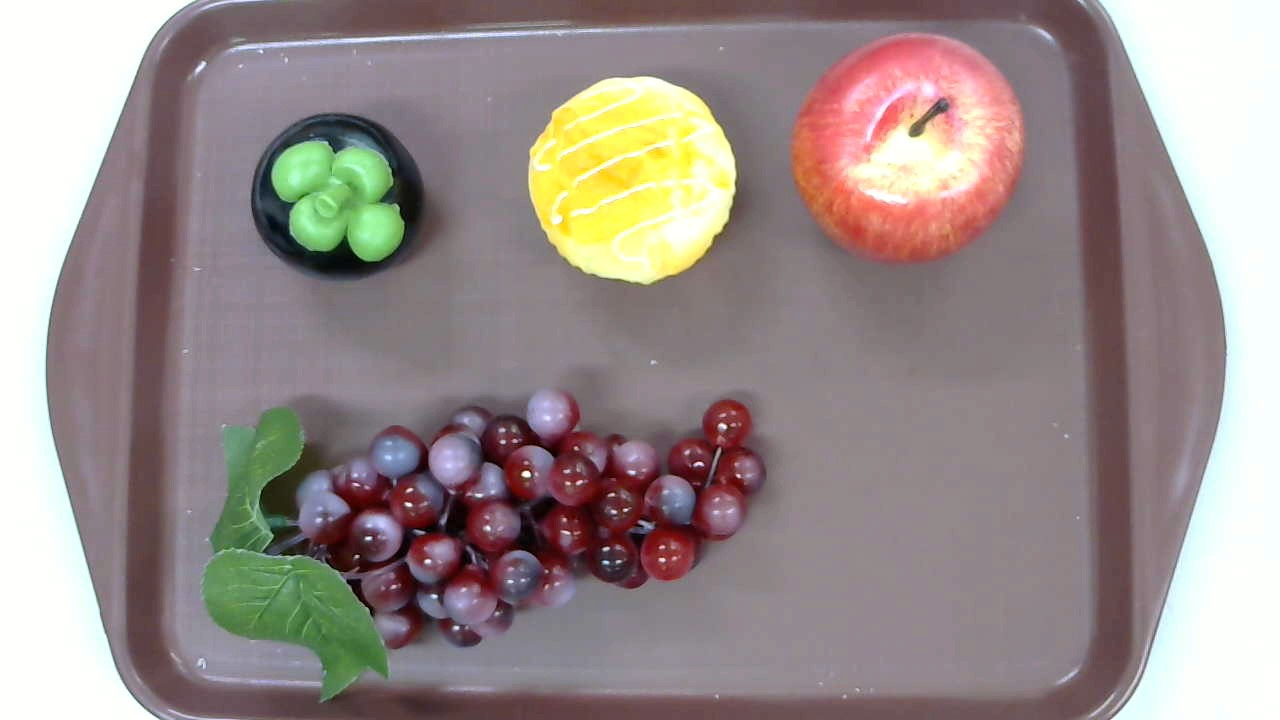cupcake: (528, 76, 736, 287)
grape: (201, 385, 766, 703)
mangosteen: (251, 113, 424, 281)
red apple: (791, 30, 1026, 266)
